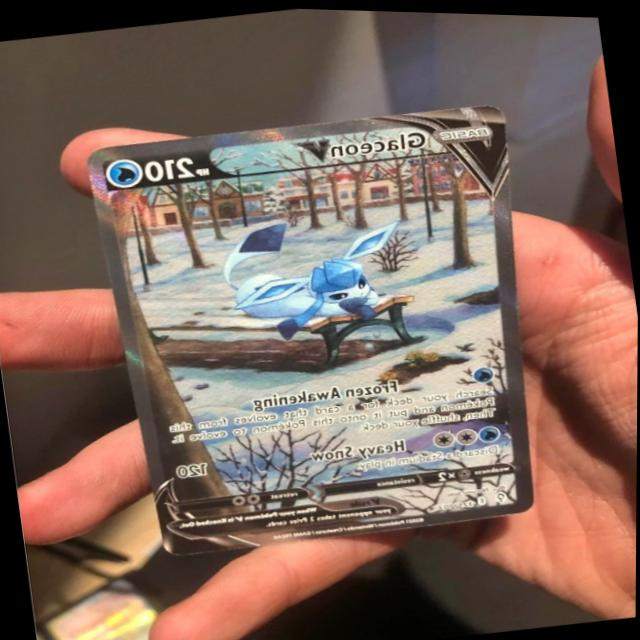card: (86, 102, 535, 555)
